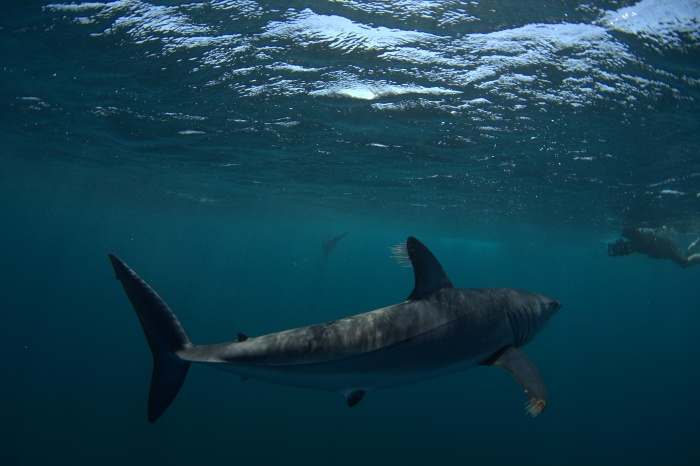Mako: (93, 233, 574, 435)
